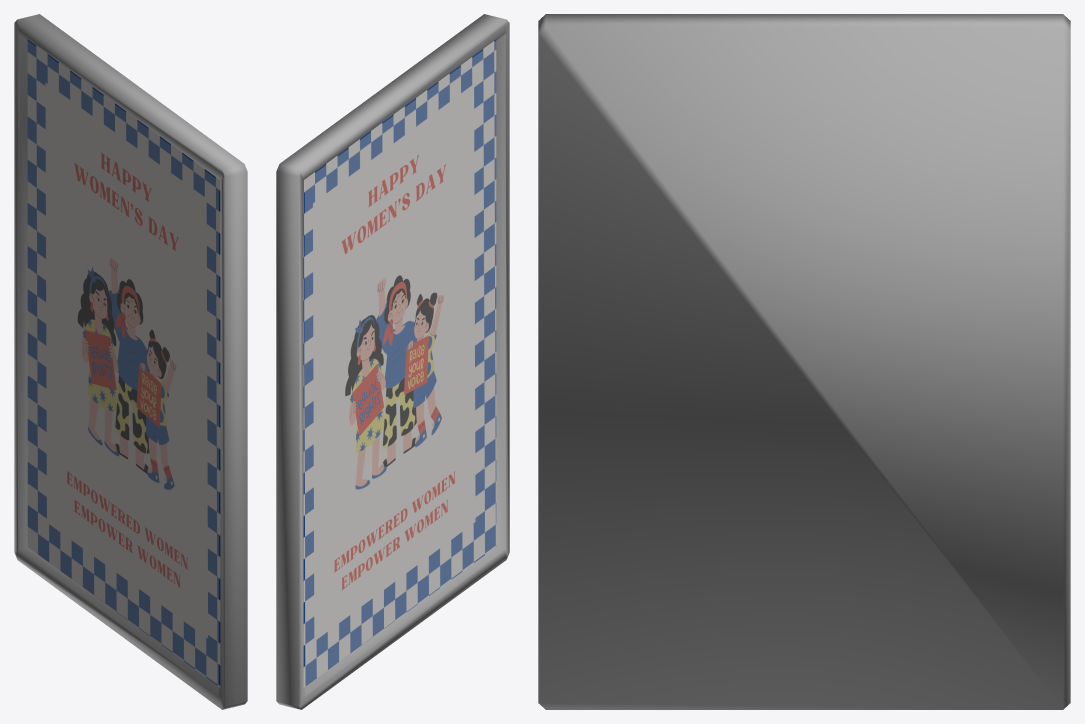
File: poster_mother.fbx
3 renders of one model, left to right at view 1: azimuth 30°, elevation 25°; view 2: azimuth 150°, elevation 25°; view 3: azimuth 270°, elevation 25°, orthographic. The views are drawn at different scales.
Visible parts, largest first — view 1: frame, poster_mother; view 2: frame, poster_mother; view 3: frame.
Part boxes in pixels (<box>): frame: <box>14,14,247,709</box>; poster_mother: <box>27,39,220,687</box>; frame: <box>276,14,509,709</box>; poster_mother: <box>303,39,496,687</box>; frame: <box>538,14,1070,709</box>.
Bounding box in the file's own units: 27.18 × 594 × 420.
3 materials, 1 textured.
